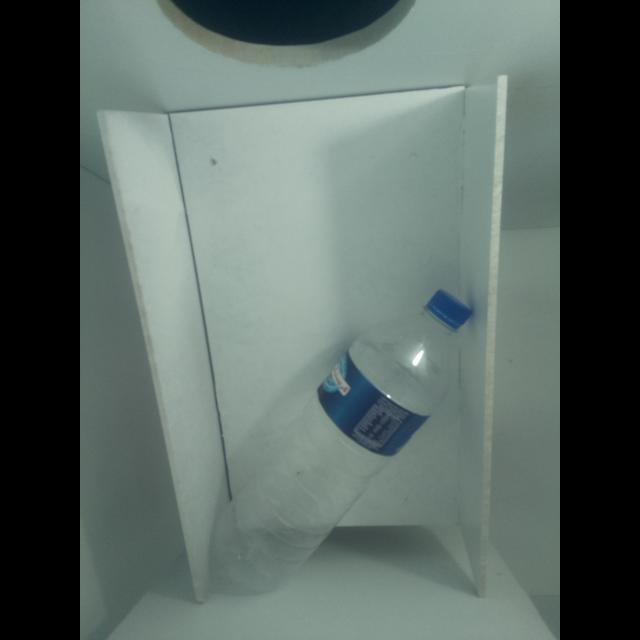trash: (195, 282, 480, 608)
